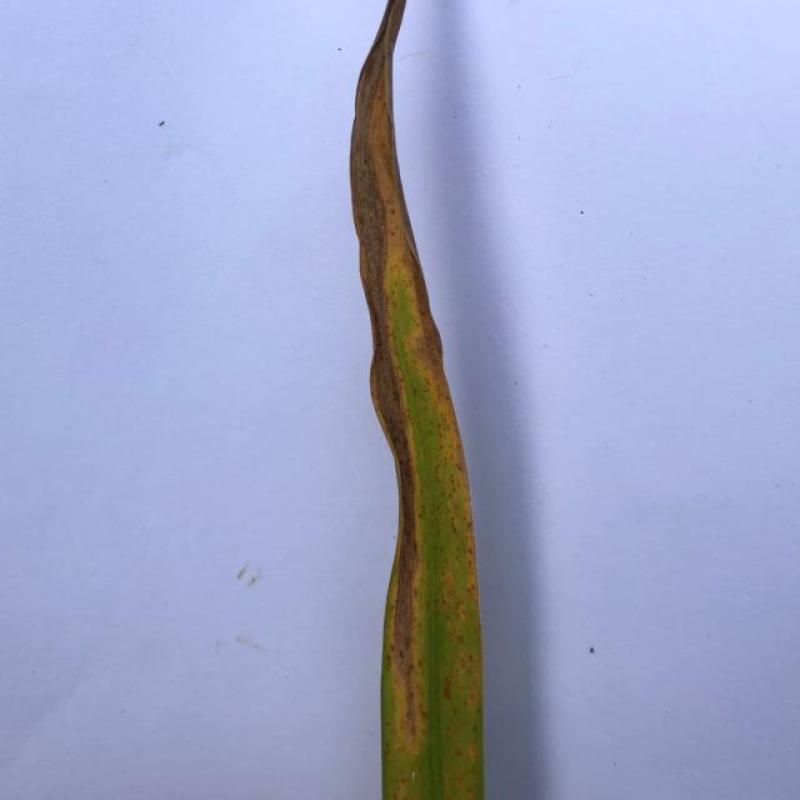Rice Tungro: (296, 0, 526, 799)
